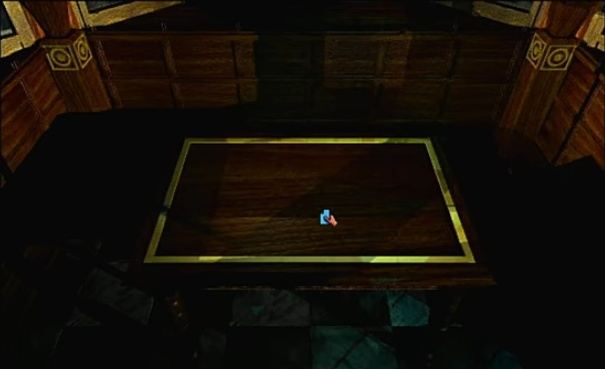Keep: (317, 205, 339, 229)
